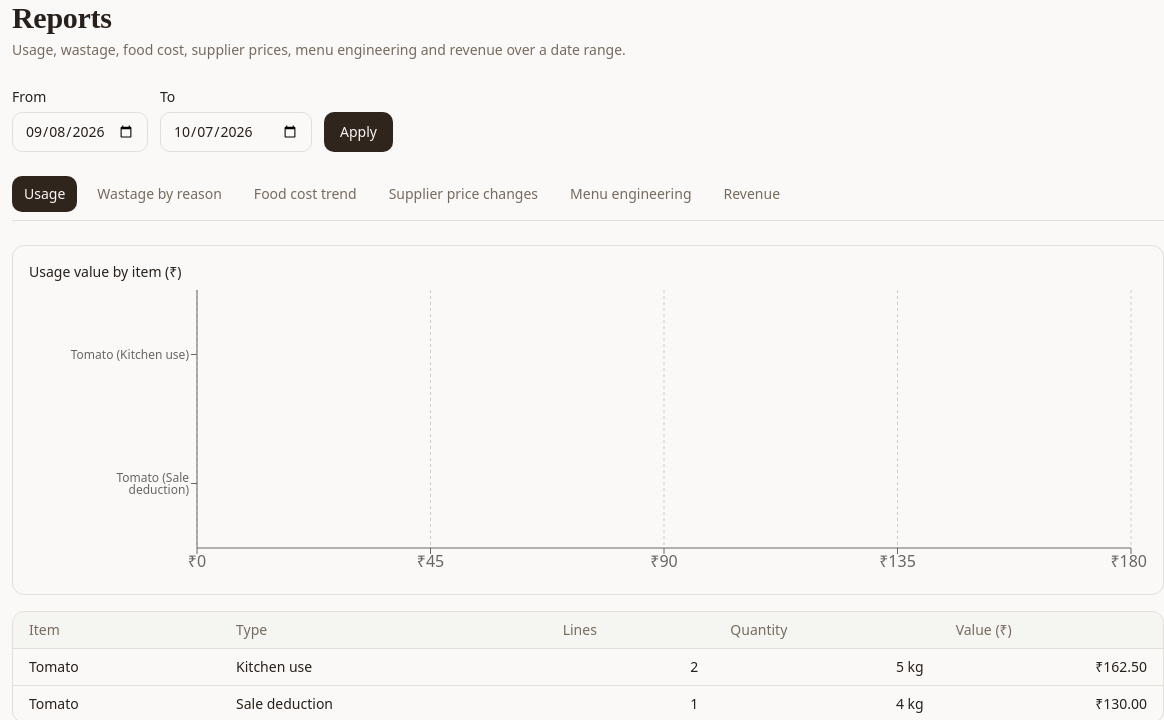
Test: ReportsPage › shows the food cost trend with its data note
Click the tab "Food cost trend" at coordinates (305, 194), box [242,176,369,212]
(page scrolled)
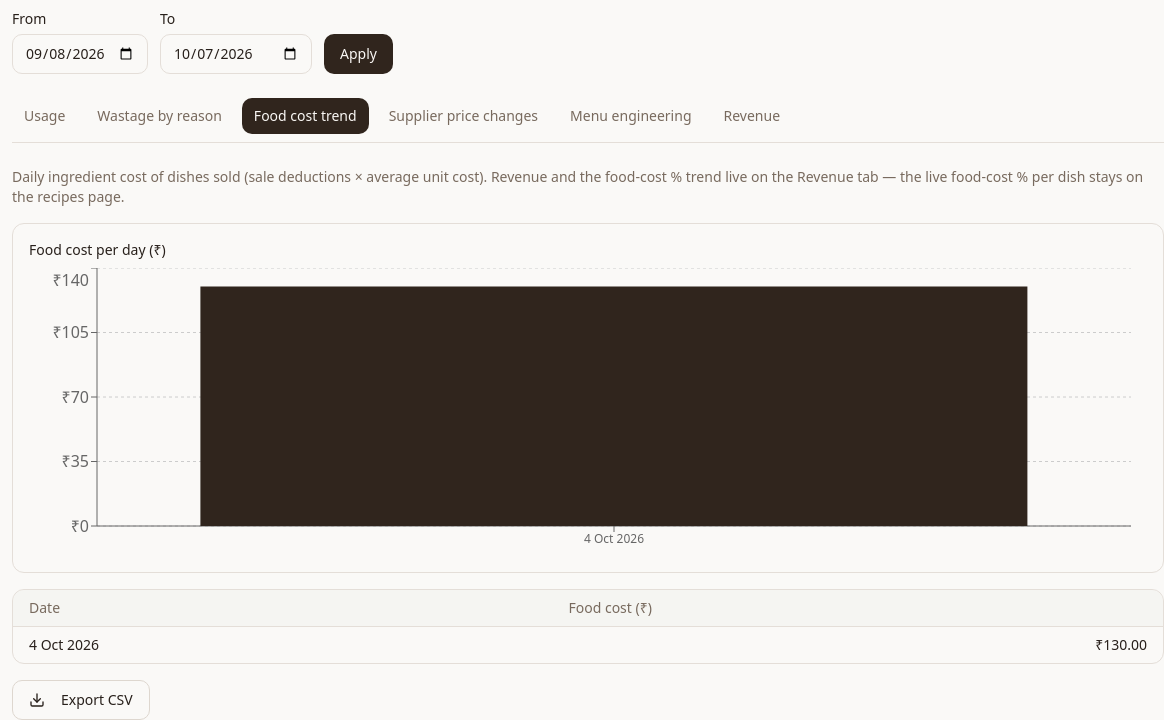
expect the text "₹130.00" is shown: met, box [552,627,1163,663]
expect the text "Revenue and the food-cost % trend live on the Revenue tab" is shown: met, box [12,167,1143,206]
